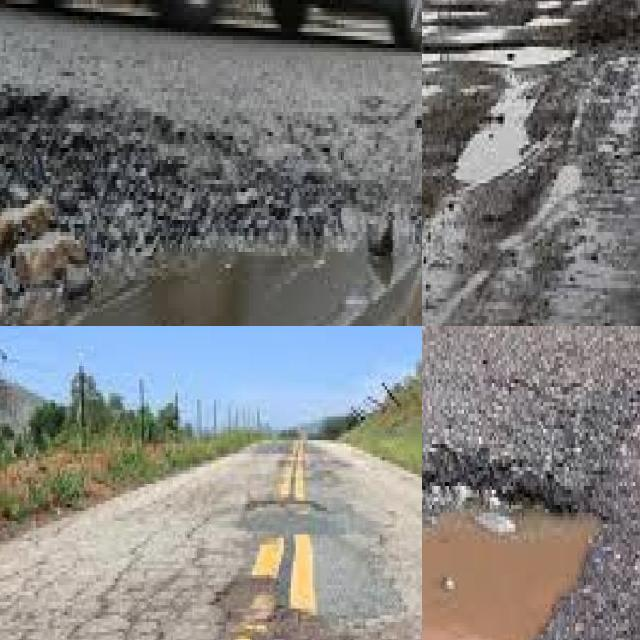Pothole: (0, 100, 422, 326), (422, 509, 603, 640), (454, 78, 547, 187), (422, 40, 575, 75), (210, 572, 287, 629), (422, 5, 498, 43), (253, 607, 332, 640), (242, 497, 325, 520), (477, 131, 503, 152)
